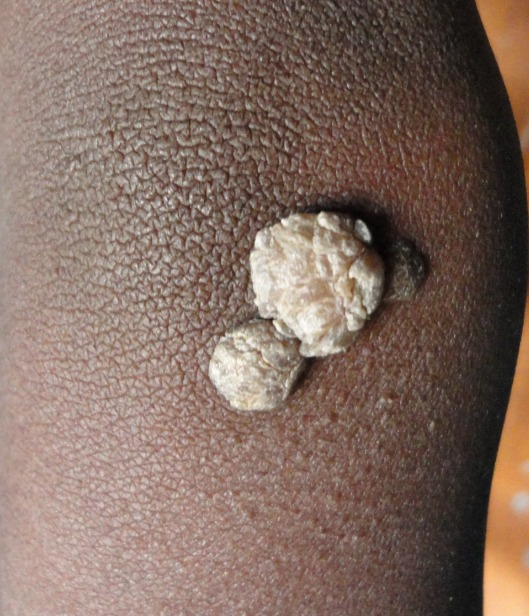Warts: (232, 185, 401, 360), (199, 309, 309, 418)
